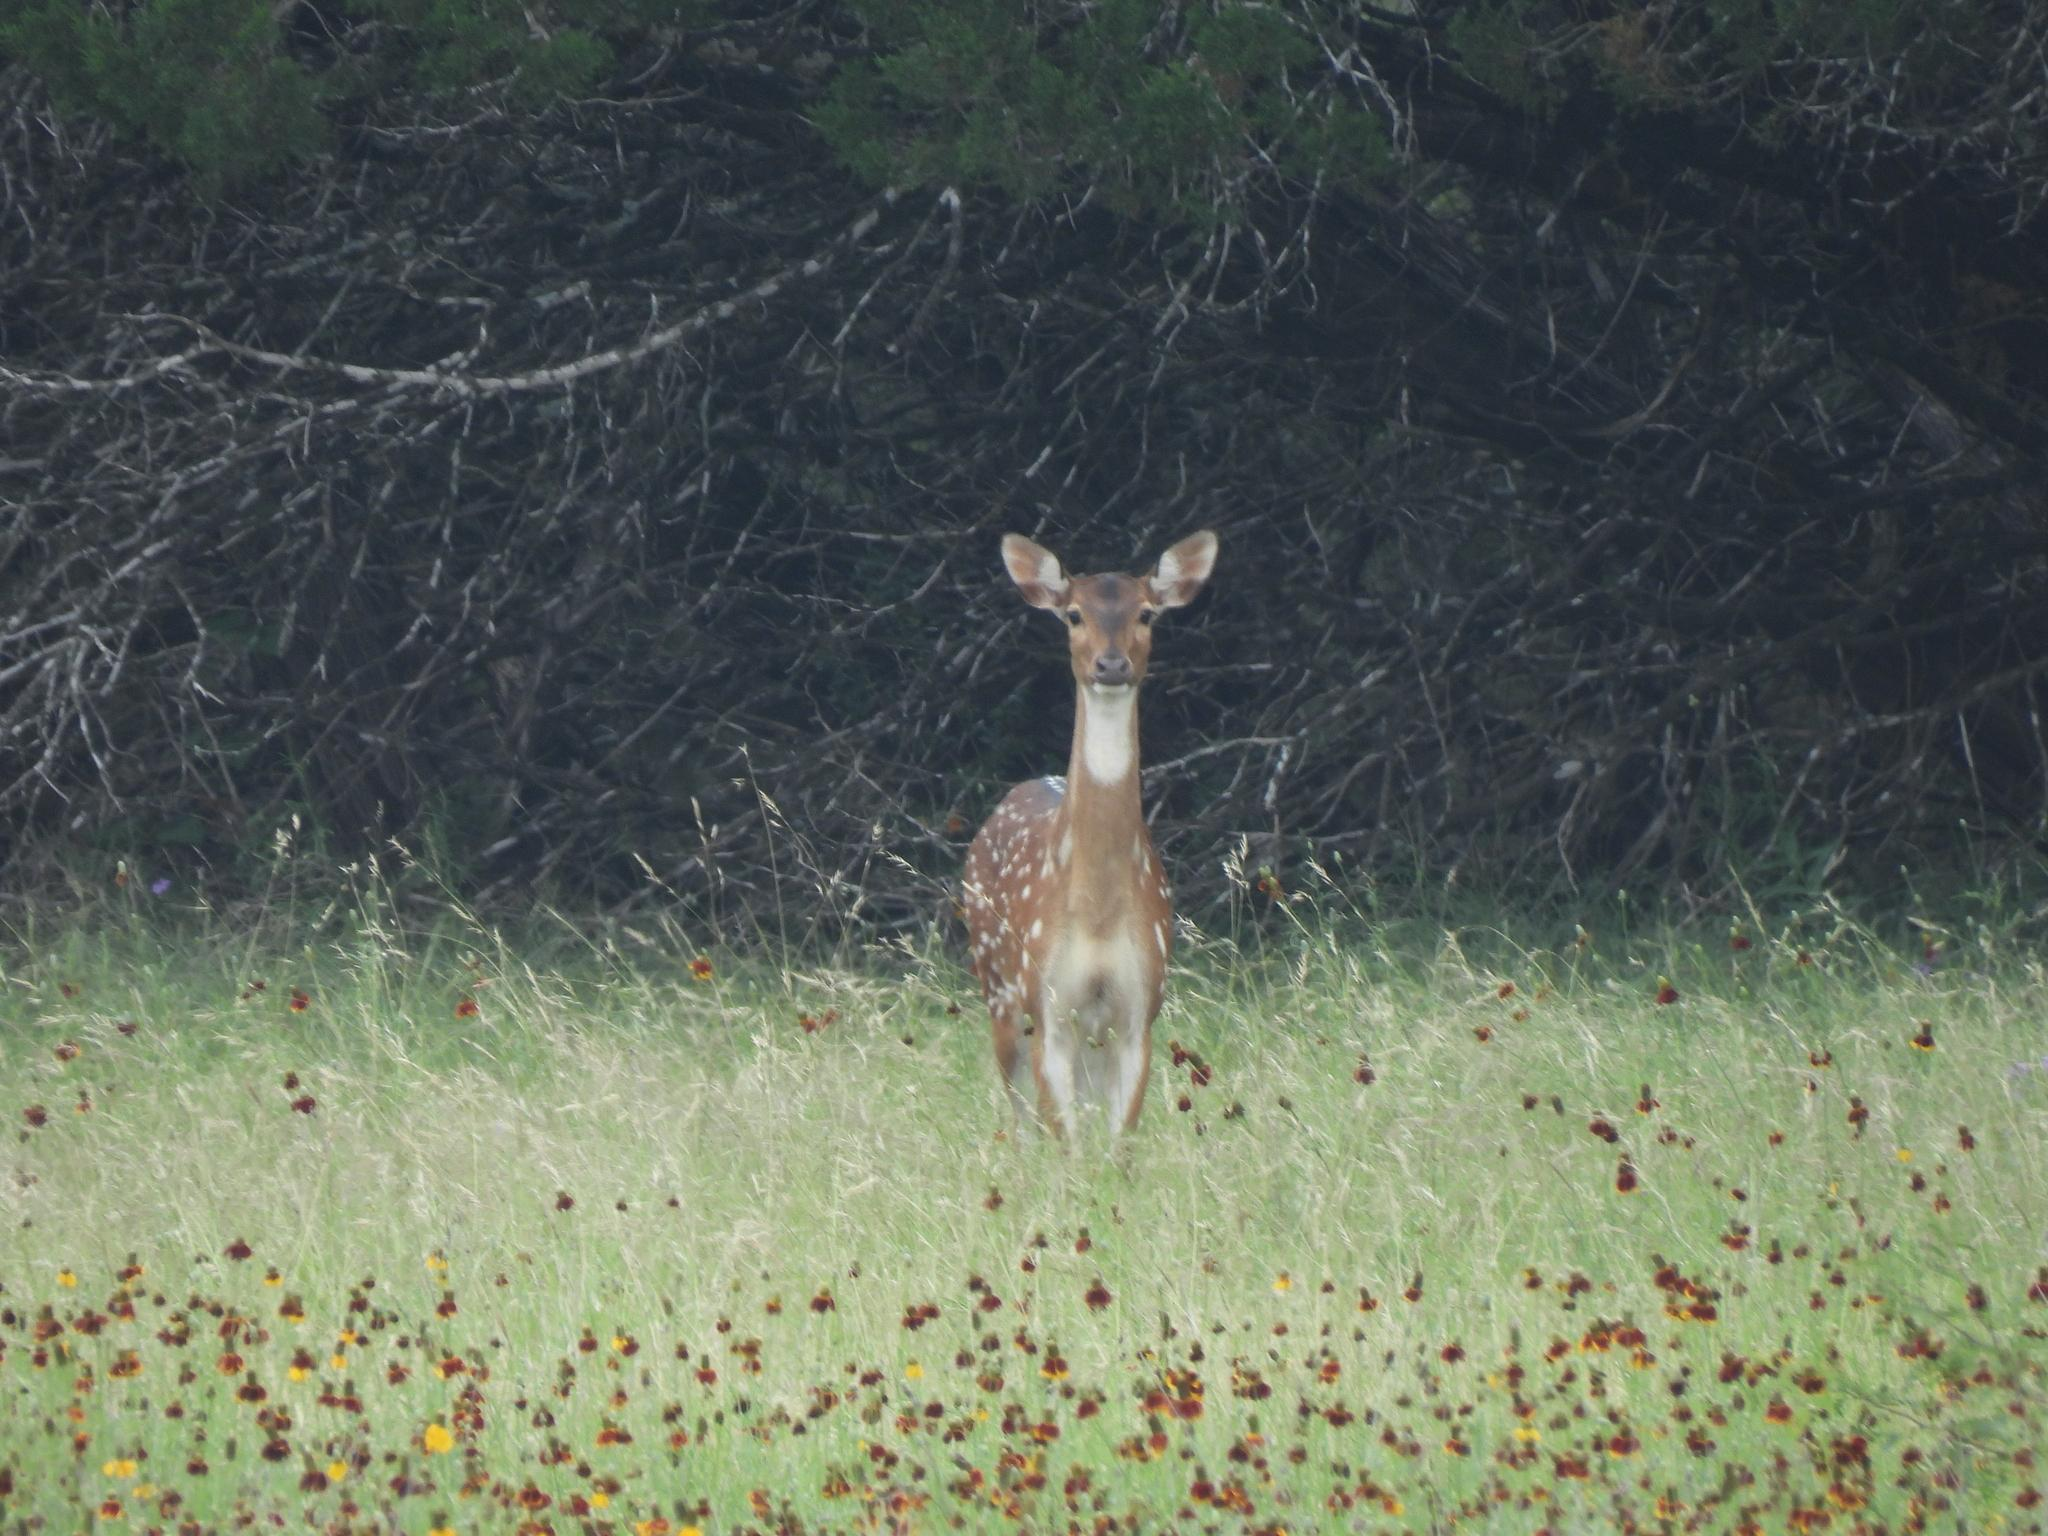Deer: (963, 531, 1216, 1141)
